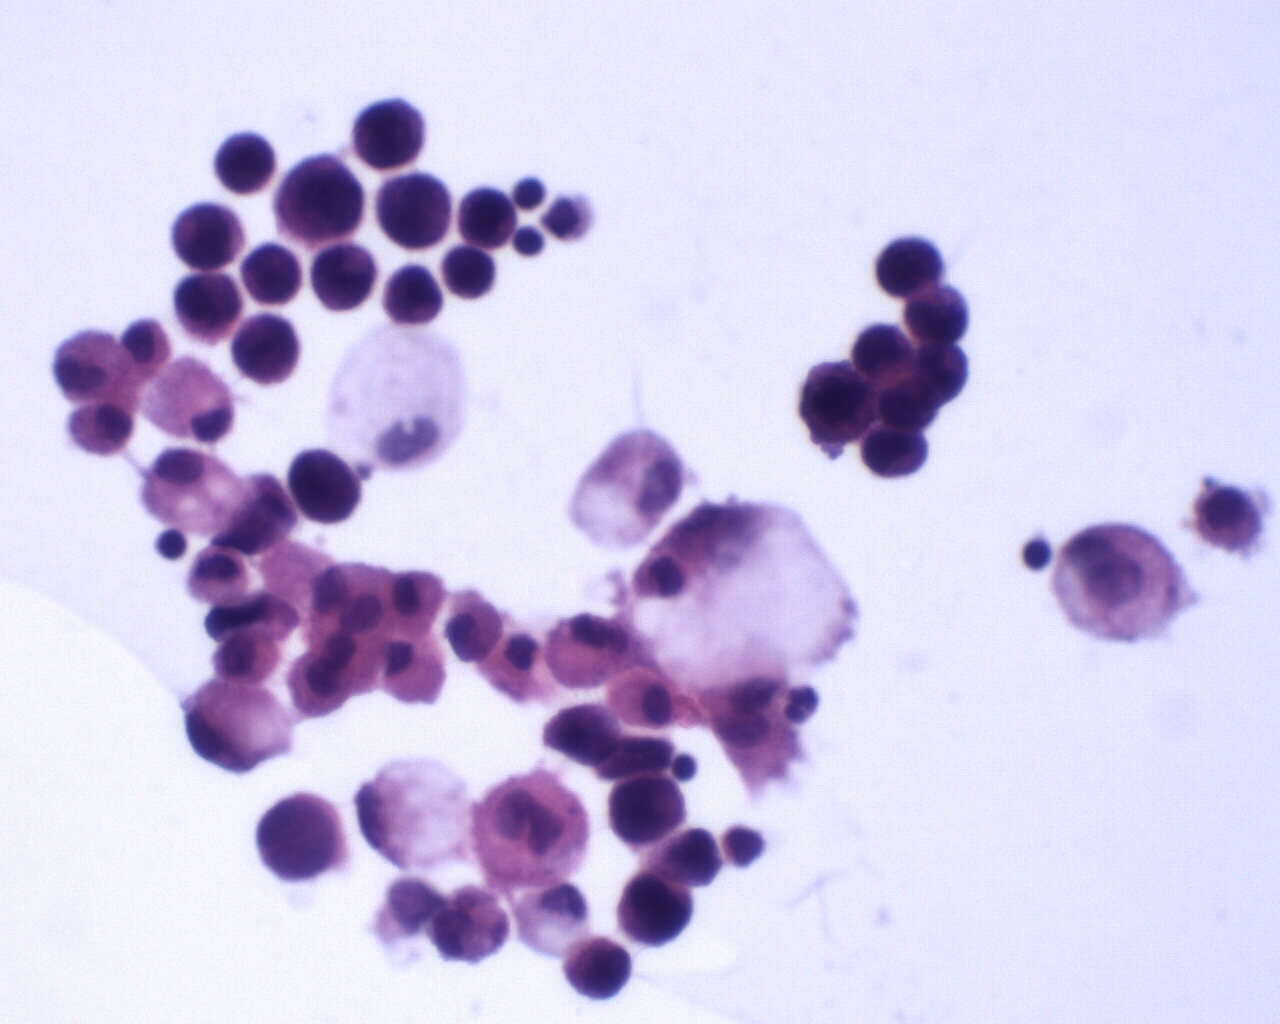ab: (252, 791, 349, 885), (274, 154, 364, 246), (616, 869, 697, 951), (801, 360, 879, 445), (375, 171, 455, 251), (284, 444, 362, 525), (350, 93, 426, 169), (169, 270, 245, 347), (607, 775, 686, 847), (171, 199, 245, 271), (231, 313, 304, 386), (558, 937, 635, 1003), (311, 242, 376, 315), (213, 127, 279, 197), (872, 232, 942, 298), (859, 422, 933, 482), (381, 260, 446, 328), (902, 284, 971, 347), (459, 185, 519, 251), (242, 240, 301, 308), (847, 323, 915, 381), (442, 242, 501, 303)
histo: (333, 330, 478, 473), (567, 416, 686, 553), (358, 749, 474, 872), (171, 678, 298, 779), (135, 442, 248, 538)
lymph: (152, 526, 190, 562), (1022, 535, 1057, 575)
meso: (373, 634, 450, 709), (607, 660, 676, 731), (288, 651, 354, 721), (213, 628, 285, 690), (63, 399, 137, 459)
neutro: (783, 682, 822, 726)
